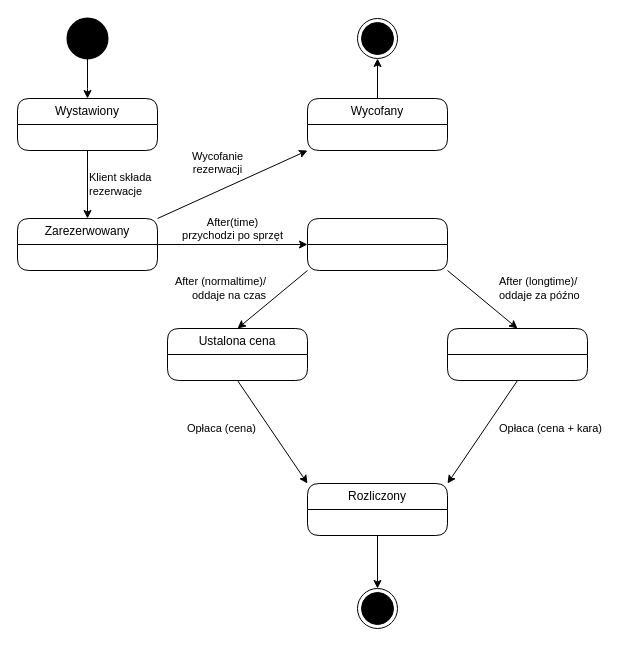
The diagram is 620 pixels wide and 646 high, and some of its shapes have lost their labels. Each missing label, with the box of its shape:
Ustalona cena za opóźnioną opłate: (446, 328, 588, 380)
Wynajęty: (306, 218, 448, 270)
